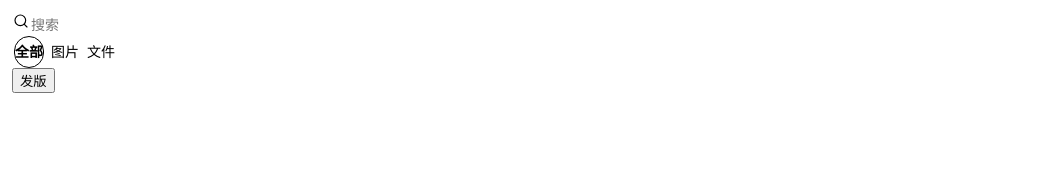
it: FlareSearchPanel › hands the idle slot a search(term) that searches at once
Click the button with class "recent" at [33, 81], box x1=12 y1=68 x2=55 y2=93
Wait 1000 ms
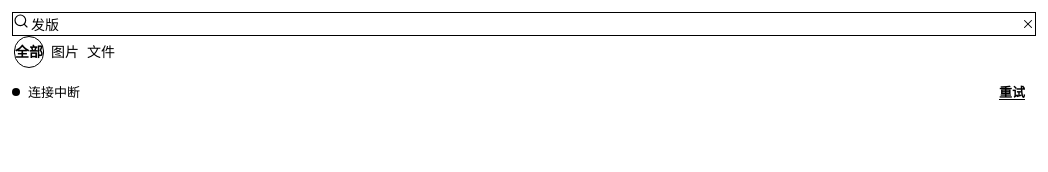
Expected: the search field named "搜索" holds "发版", x1=29 y1=14 x2=1021 y2=35
